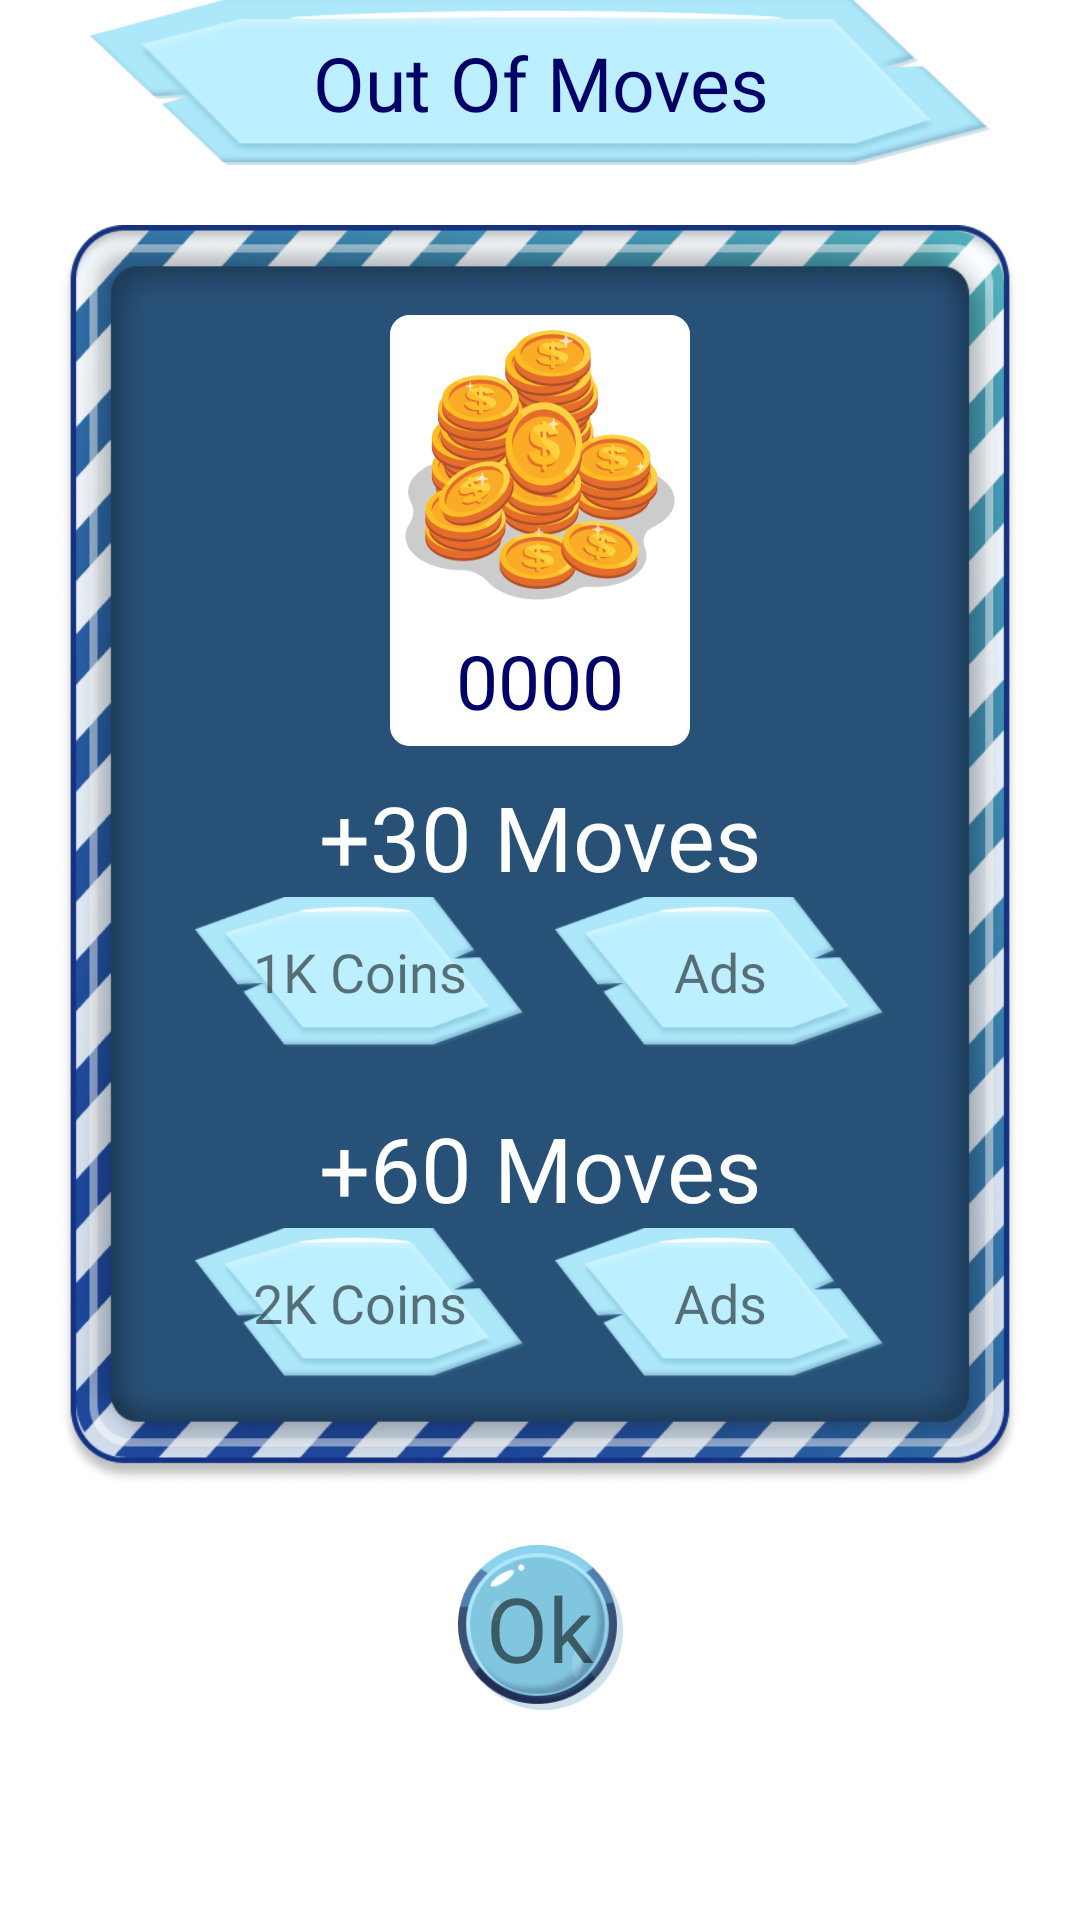

Point at icon controls on the screen. Image size 1080×1920, points as (x=x, y=y).
coins: (x=540, y=465)
